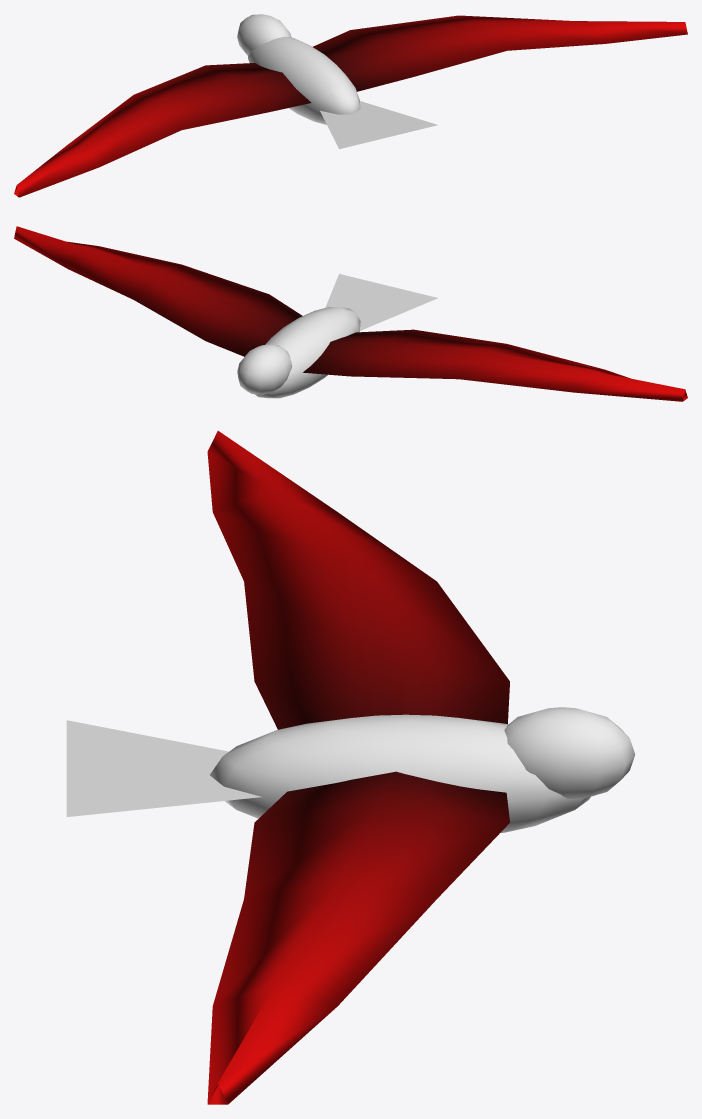
File: forum-bird.fbx
3 renders of one model, top to bottom at view 1: azimuth 30°, elevation 25°; view 2: azimuth 150°, elevation 25°; view 3: azimuth 270°, elevation 25°, orthographic. The views are drawn at different scales.
Parts seen in each view (by area): view 1: WingR, WingL, Body, Tail, Head; view 2: WingL, WingR, Body, Tail, Head; view 3: WingR, WingL, Body, Tail, Head.
Part boxes in pixels (<box>): WingR: <box>313,15,687,91</box>; WingL: <box>14,63,311,197</box>; Body: <box>248,37,360,124</box>; Tail: <box>320,101,437,149</box>; Head: <box>237,14,291,55</box>; WingL: <box>303,329,687,401</box>; WingR: <box>14,226,302,356</box>; Body: <box>255,307,360,398</box>; Tail: <box>325,274,437,330</box>; Head: <box>237,344,292,394</box>; WingR: <box>207,771,509,1104</box>; WingL: <box>207,431,509,729</box>; Body: <box>210,714,590,832</box>; Tail: <box>66,720,261,816</box>; Head: <box>504,707,635,798</box>.
Bounding box in the file's own units: 296 × 109 × 26.
